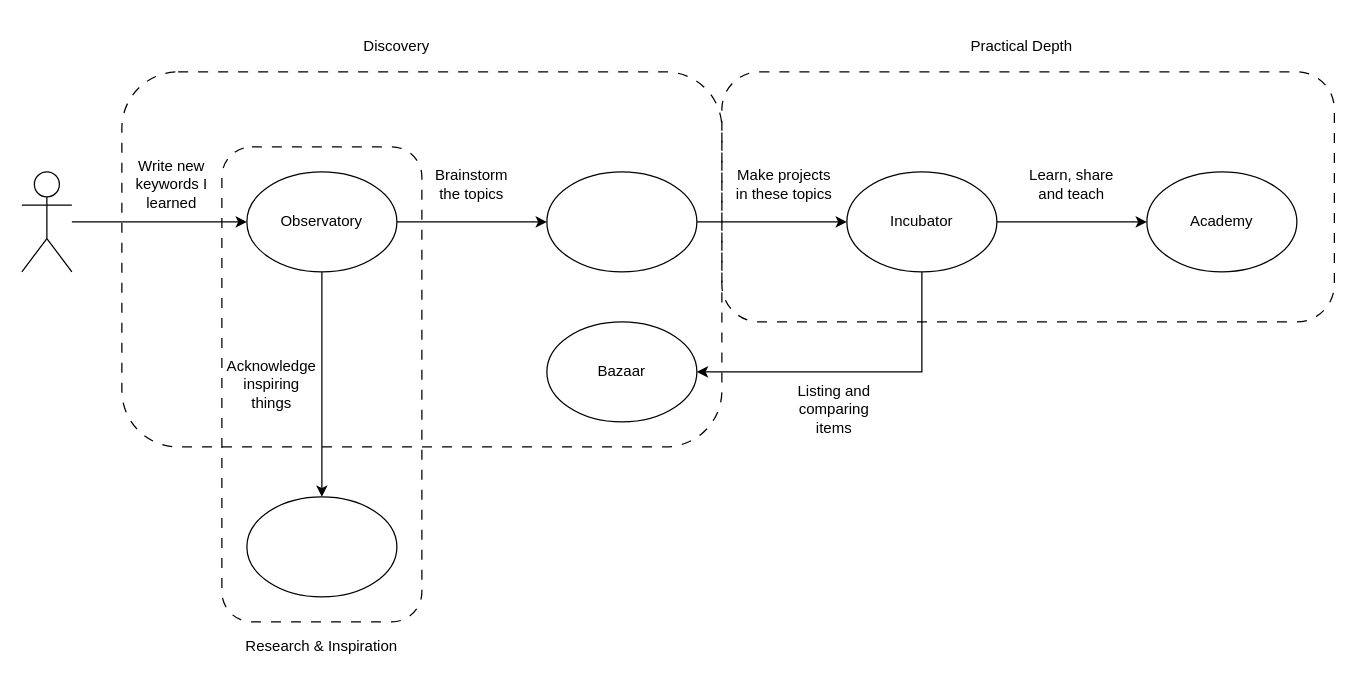
Some shapes in this 1356 by 693 pixel diagram are drawn without their labels. The shapes that lost their labels are listed below. From the top down, each one's centre as x and y in pixels, then its label:
At [621,221]: "Round Table".
At [321,546]: "Hall Of Fame".
